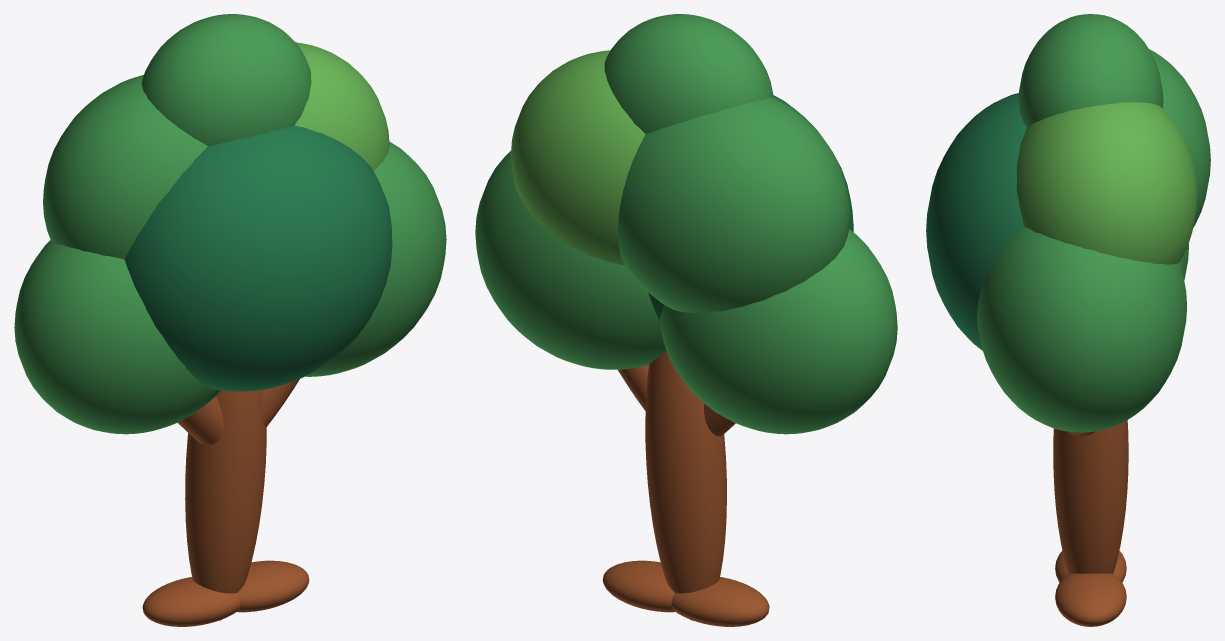
File: tree.glb
3 views of the same model, side by side, from view 1: azimuth 30°, elevation 25°; view 2: azimuth 150°, elevation 25°; view 3: azimuth 270°, elevation 25° (orthographic). The views are drawn at different scales.
Parts seen in each view (by area): view 1: canopy (×6), trunk, root (×2), branch (×2); view 2: canopy (×5), trunk, root (×2), branch; view 3: canopy (×5), trunk, root (×2).
Part boxes in pixels (x1,y1,x2,y2): canopy (×6): (14,14,446,434); trunk: (185,390,266,620); root (×2): (142,560,309,626); branch (×2): (178,379,299,444); canopy (×5): (475,14,897,434); trunk: (645,351,726,620); root (×2): (602,560,769,626); branch: (618,365,648,410); canopy (×5): (926,14,1210,432); trunk: (1053,420,1128,573); root (×2): (1055,550,1126,626).
Bounding box in the file's own units: 2.55 × 3.6 × 1.59.
